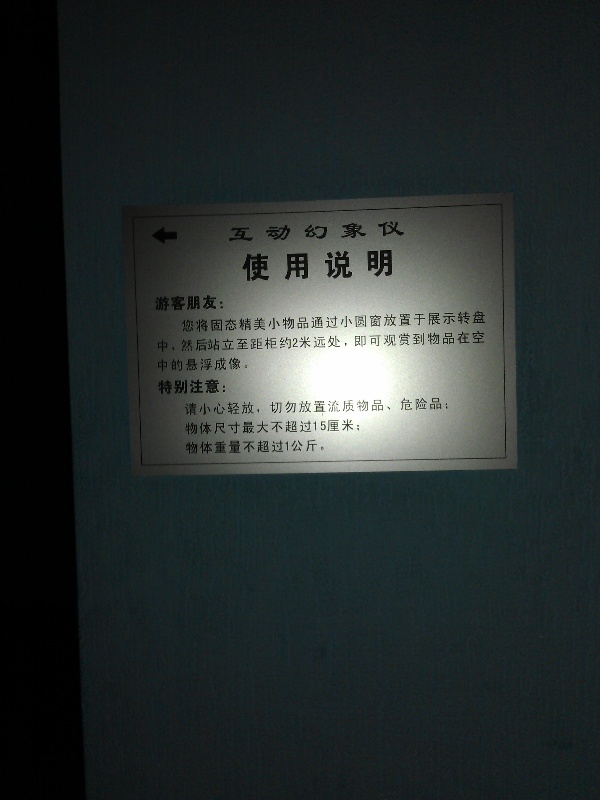text: (257, 250, 272, 282), (273, 250, 288, 282), (289, 250, 304, 282), (305, 250, 320, 282), (321, 250, 336, 282), (337, 250, 352, 282), (353, 250, 368, 282), (369, 250, 384, 282), (242, 250, 256, 282), (193, 311, 208, 334), (209, 311, 224, 334), (225, 311, 240, 334), (241, 311, 256, 334), (257, 311, 272, 334), (273, 311, 288, 334), (289, 311, 304, 334), (305, 311, 320, 334), (321, 311, 336, 334), (337, 311, 352, 334), (353, 311, 368, 334), (369, 311, 384, 334), (385, 311, 400, 334), (401, 311, 416, 334), (417, 311, 432, 334), (433, 311, 448, 334), (449, 311, 464, 334), (465, 311, 480, 334), (161, 331, 176, 353), (177, 331, 192, 353), (193, 331, 208, 353), (209, 331, 224, 353), (225, 331, 240, 353), (241, 331, 256, 353), (257, 331, 272, 353), (273, 331, 288, 353), (289, 331, 304, 353), (305, 331, 320, 353), (321, 331, 336, 353), (337, 331, 352, 353), (353, 331, 368, 353), (369, 331, 384, 353), (385, 331, 400, 353), (401, 331, 416, 353), (417, 331, 432, 353), (433, 331, 448, 353), (449, 331, 464, 353), (465, 331, 480, 353), (241, 222, 256, 242), (257, 222, 272, 242), (273, 222, 288, 242), (289, 222, 304, 242), (305, 222, 320, 242), (321, 222, 336, 242), (337, 222, 352, 242), (353, 222, 368, 242), (369, 222, 384, 242), (385, 222, 400, 242), (433, 398, 449, 416), (161, 355, 176, 373), (177, 355, 192, 373), (193, 355, 208, 373), (209, 355, 224, 373), (225, 355, 240, 373), (193, 398, 208, 416), (209, 398, 224, 416), (225, 398, 240, 416), (241, 398, 256, 416), (257, 398, 272, 416), (273, 398, 288, 416), (289, 398, 304, 416), (305, 398, 320, 416), (321, 398, 336, 416), (337, 398, 352, 416), (353, 398, 368, 416), (369, 398, 384, 416), (385, 398, 400, 416), (401, 398, 416, 416), (417, 398, 432, 416), (385, 250, 393, 282), (161, 295, 176, 312), (177, 295, 192, 312), (193, 295, 208, 312), (209, 295, 224, 312), (193, 419, 208, 436), (209, 419, 224, 436), (225, 419, 240, 436), (241, 419, 256, 436), (257, 419, 272, 436), (273, 419, 288, 436), (289, 419, 304, 436), (305, 419, 320, 436), (321, 419, 336, 436), (337, 419, 352, 436), (228, 222, 240, 242), (161, 379, 176, 395), (177, 379, 192, 395), (193, 379, 208, 395), (209, 379, 224, 395), (193, 439, 208, 455), (209, 439, 224, 455), (225, 439, 240, 455), (241, 439, 256, 455), (257, 439, 272, 455), (273, 439, 288, 455), (289, 439, 304, 455), (305, 439, 320, 455), (182, 311, 192, 334), (241, 355, 249, 373), (481, 311, 487, 334), (353, 419, 361, 436), (185, 398, 192, 416), (481, 331, 486, 353), (186, 419, 192, 436), (186, 439, 192, 455), (155, 295, 160, 312), (401, 222, 405, 242), (157, 331, 160, 353), (157, 355, 160, 373), (321, 439, 324, 455), (158, 379, 160, 395), (225, 379, 227, 395)
